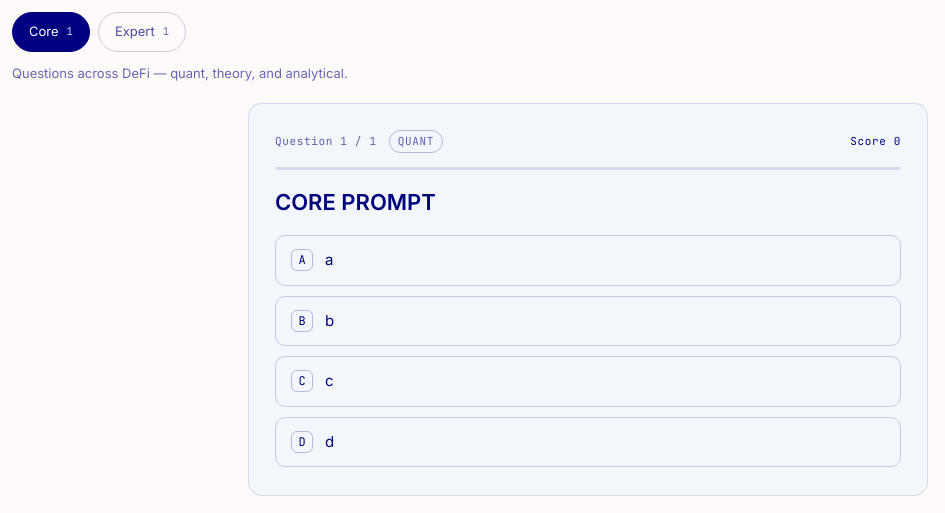
Scenario: QuizModeSwitch › switches to the expert bank on click
What coordinates should you click on to do the following:
click the tab "Expert 1"
I would click on:
 (142, 32)
Its box is [98, 12, 186, 52].
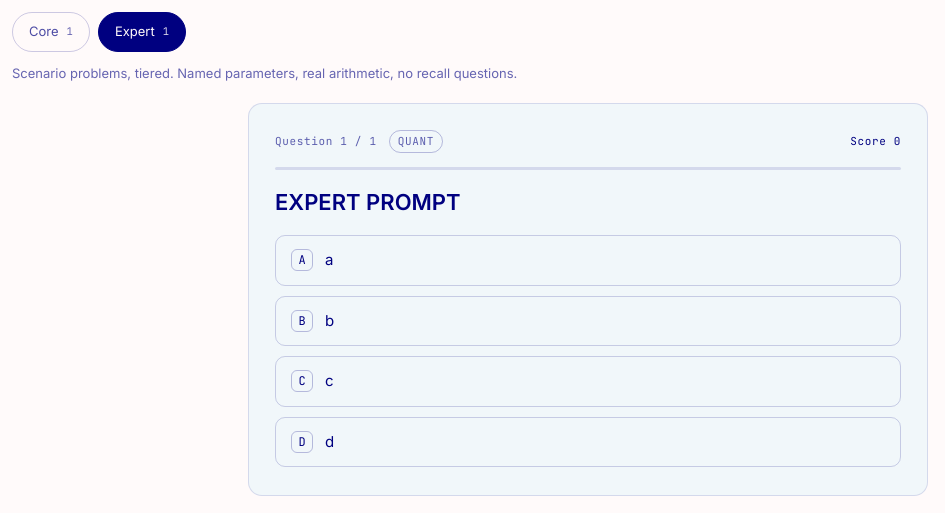
Now the heading "EXPERT PROMPT" is shown, box [275, 188, 460, 214]
